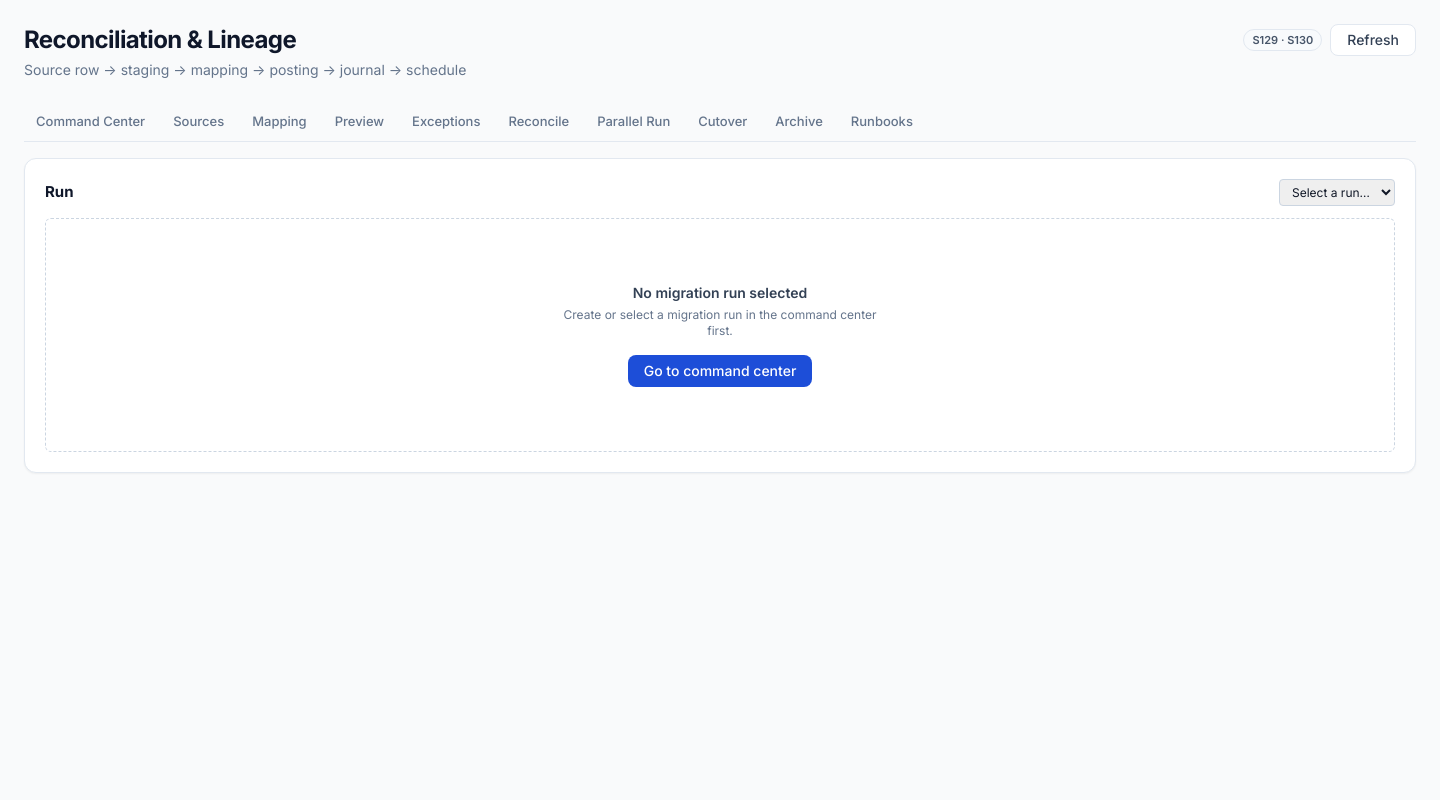
Test case: MigrationReconcile › formats control totals it is given without recomputing them
Select "run-a" in the dropdown with test id "reconcile-run-select" at (1337, 192), box [1279,178,1395,206]
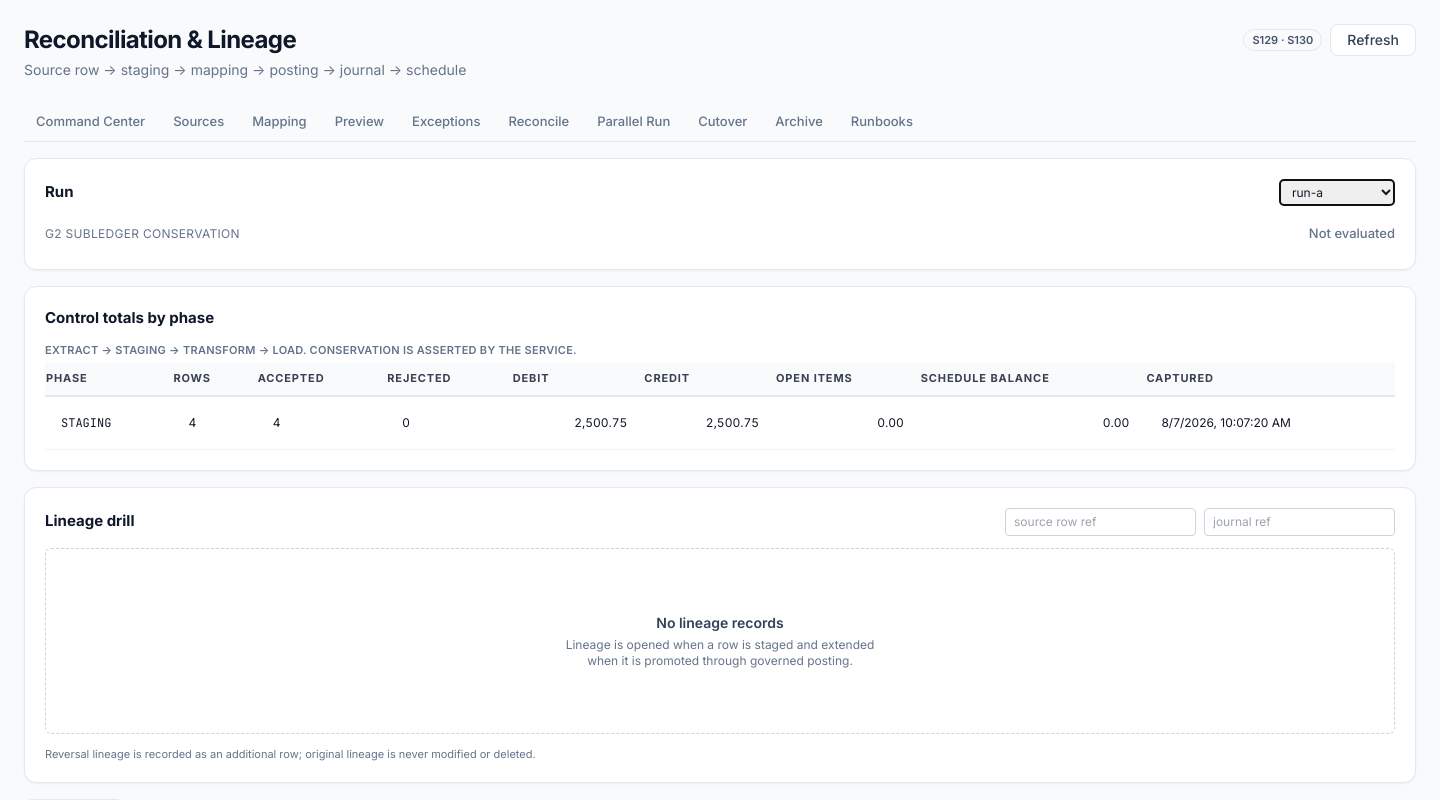
Check: the row with test id "reconcile-total-ct-1" is shown, box [45,396,1395,449]
Check: the row with test id "reconcile-total-ct-1" shows "2,500.75", box [574,414,627,430]
